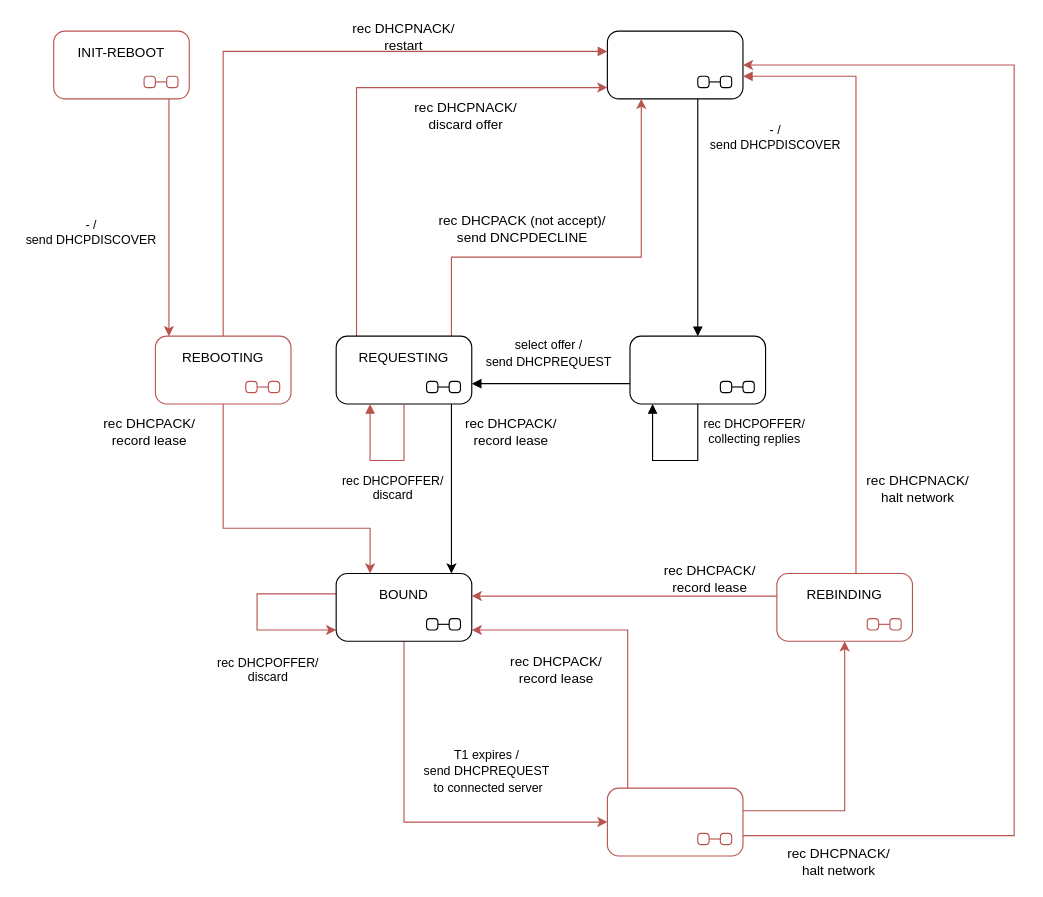
This 1043x897 diagram has some shape labels left out. Each missing label, with the box of its shape:
INIT: (606, 30, 743, 99)
RENEWING: (606, 787, 743, 856)
SELECTING: (629, 335, 766, 404)
